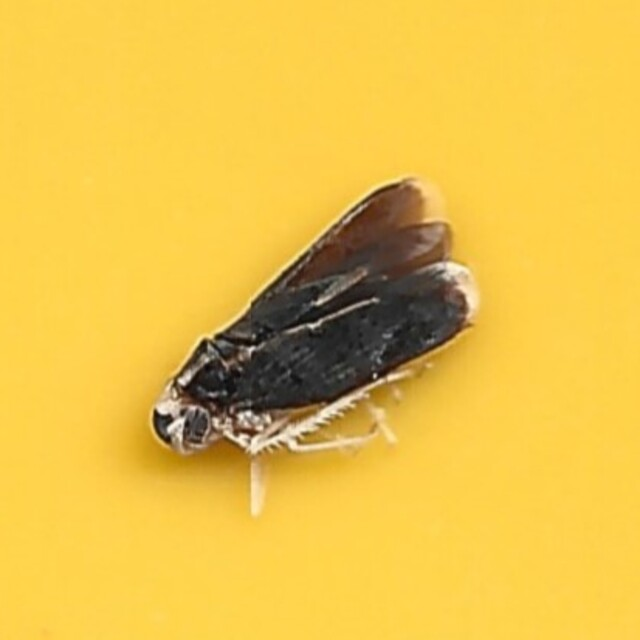Hemiptera: (155, 171, 485, 469)
